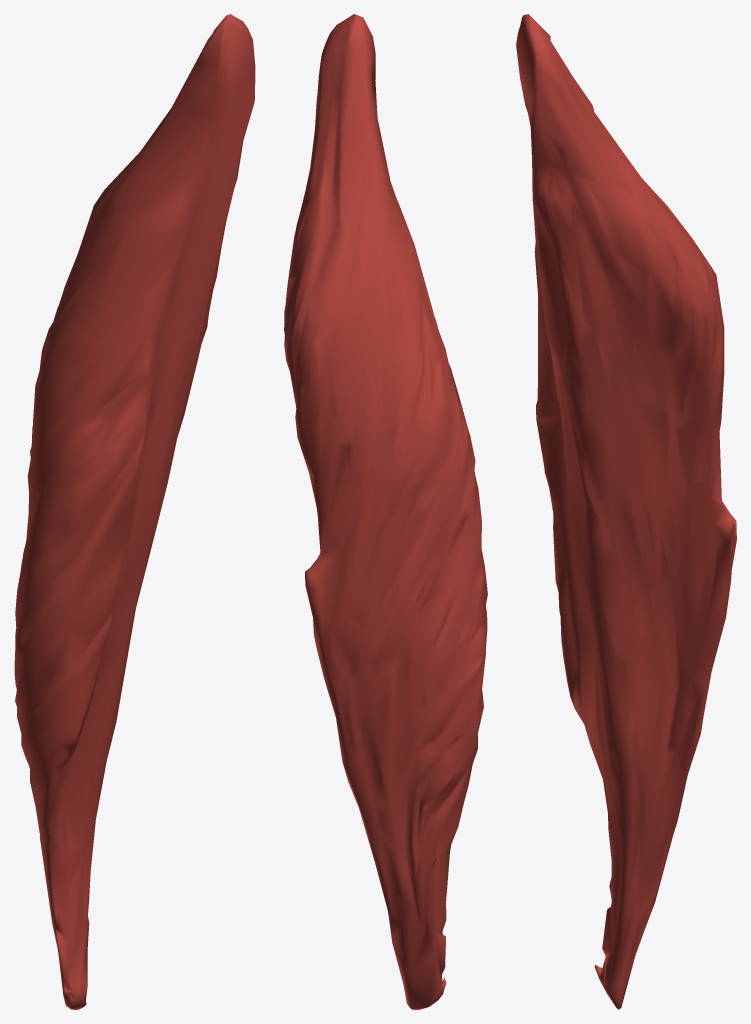
File: musculos-lateral-head-of-triceps-brachii-r.glb
3 renders of one model, left to right at view 1: azimuth 30°, elevation 25°; view 2: azimuth 150°, elevation 25°; view 3: azimuth 270°, elevation 25°, orthographic. The views are drawn at different scales.
Parts seen in each view (by area): view 1: Lateral head of triceps brachii.r; view 2: Lateral head of triceps brachii.r; view 3: Lateral head of triceps brachii.r.
Part boxes in pixels (left/top/right/bottom): Lateral head of triceps brachii.r: left=14, top=14, right=255, bottom=1009; Lateral head of triceps brachii.r: left=284, top=14, right=487, bottom=1009; Lateral head of triceps brachii.r: left=516, top=14, right=736, bottom=1009.
Bounding box in the file's own units: 0.0561 × 0.2648 × 0.0506.
